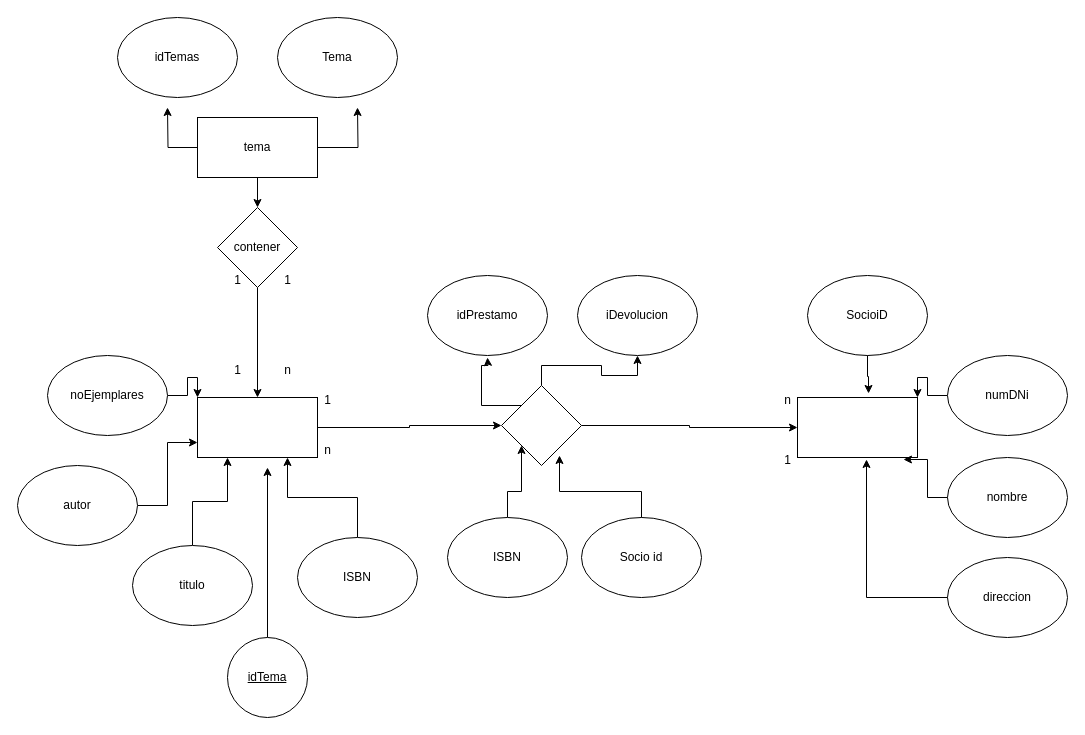
Some shapes in this 1085 by 735 pixel diagram are drawn without their labels. Each missing label, with the centre of its shape:
aceptar: the point at 541,425
Libros: the point at 257,427
socios: the point at 857,427
